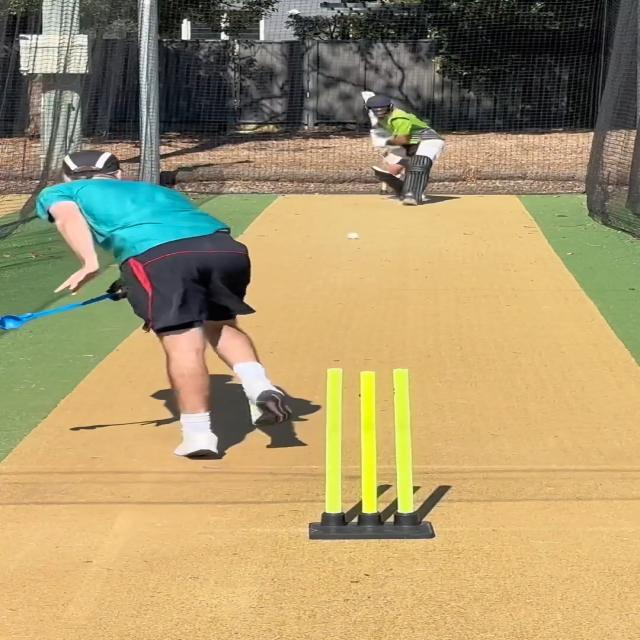ball: (345, 232, 361, 240)
stump: (309, 367, 434, 540)
